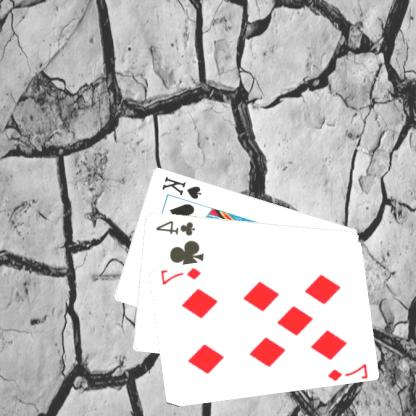4C: (154, 217, 198, 237)
7D: (160, 265, 204, 286), (326, 361, 370, 382)
KS: (160, 172, 205, 200)
